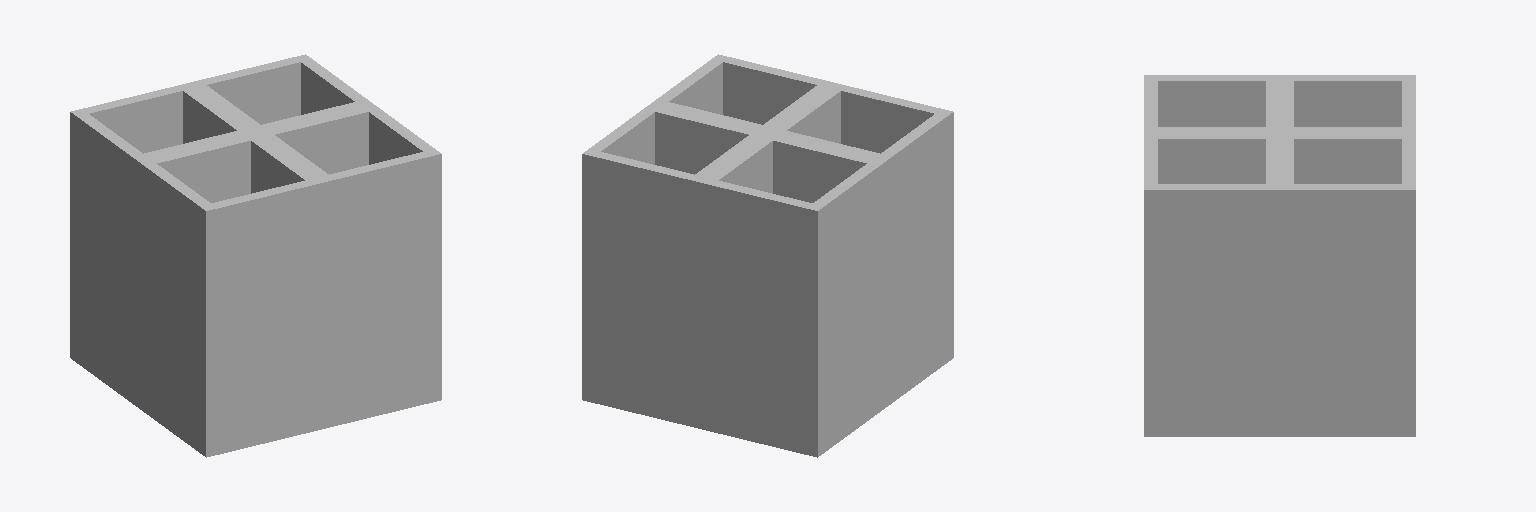
File: tile_cross.obj
The picture shows the model from 3 angles: view 1: azimuth 30°, elevation 25°; view 2: azimuth 150°, elevation 25°; view 3: azimuth 270°, elevation 25°; orthographic projection.
Parts seen in each view (by area): view 1: tile_cross; view 2: tile_cross; view 3: tile_cross.
Boxes of the visible parts, box(x1,y1,x2,y2) form: tile_cross: box(70, 54, 441, 457); tile_cross: box(582, 54, 953, 457); tile_cross: box(1144, 75, 1415, 436).
Bounding box in the file's own units: 40 × 40 × 40.